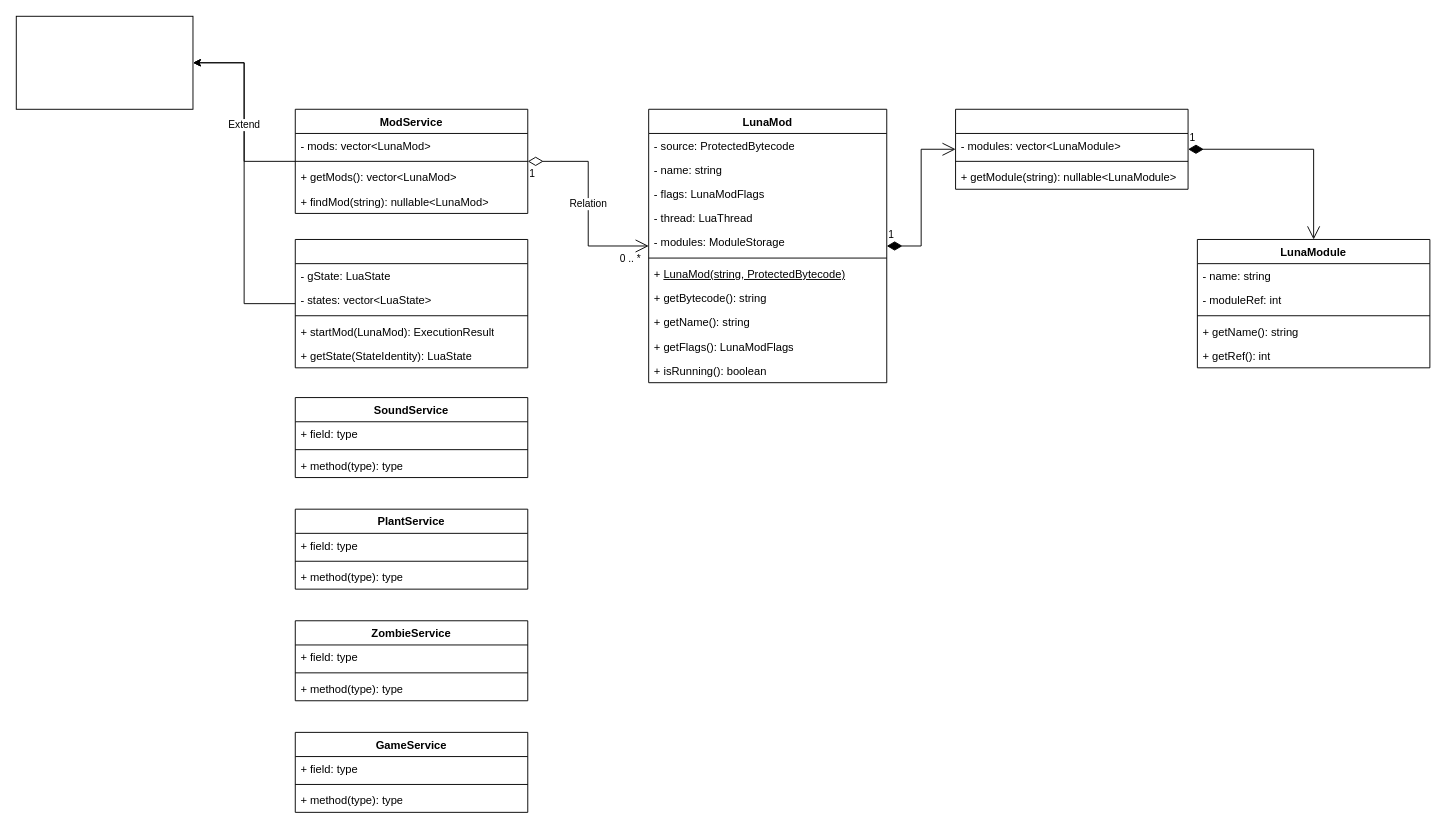
Some shapes in this 1446 by 831 pixel diagram are drawn without their labels. Here are the shapes that lost their labels. From the top down, the box of each, then its label:
(15, 15, 193, 109): <<abstract>> Singleton - singleton: Singleton + getSingleton(): Singleton
(955, 108, 1188, 189): ModuleStorage
(294, 239, 528, 368): LuaService
